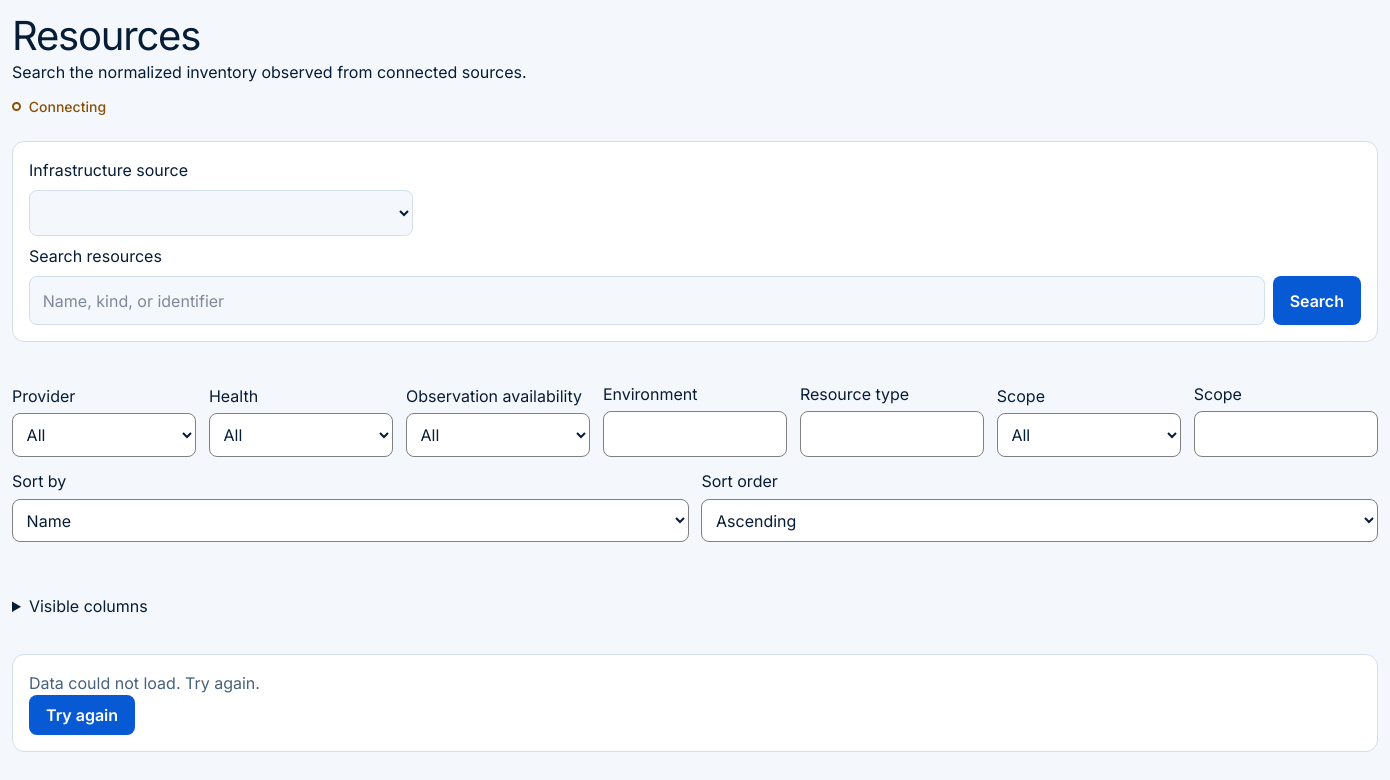
Test: failed product reads › retries resources without a document reload
The width and height of the screenshot is (1390, 780).
Click the button "Try again".
click(82, 715)  # box [29,695,135,735]
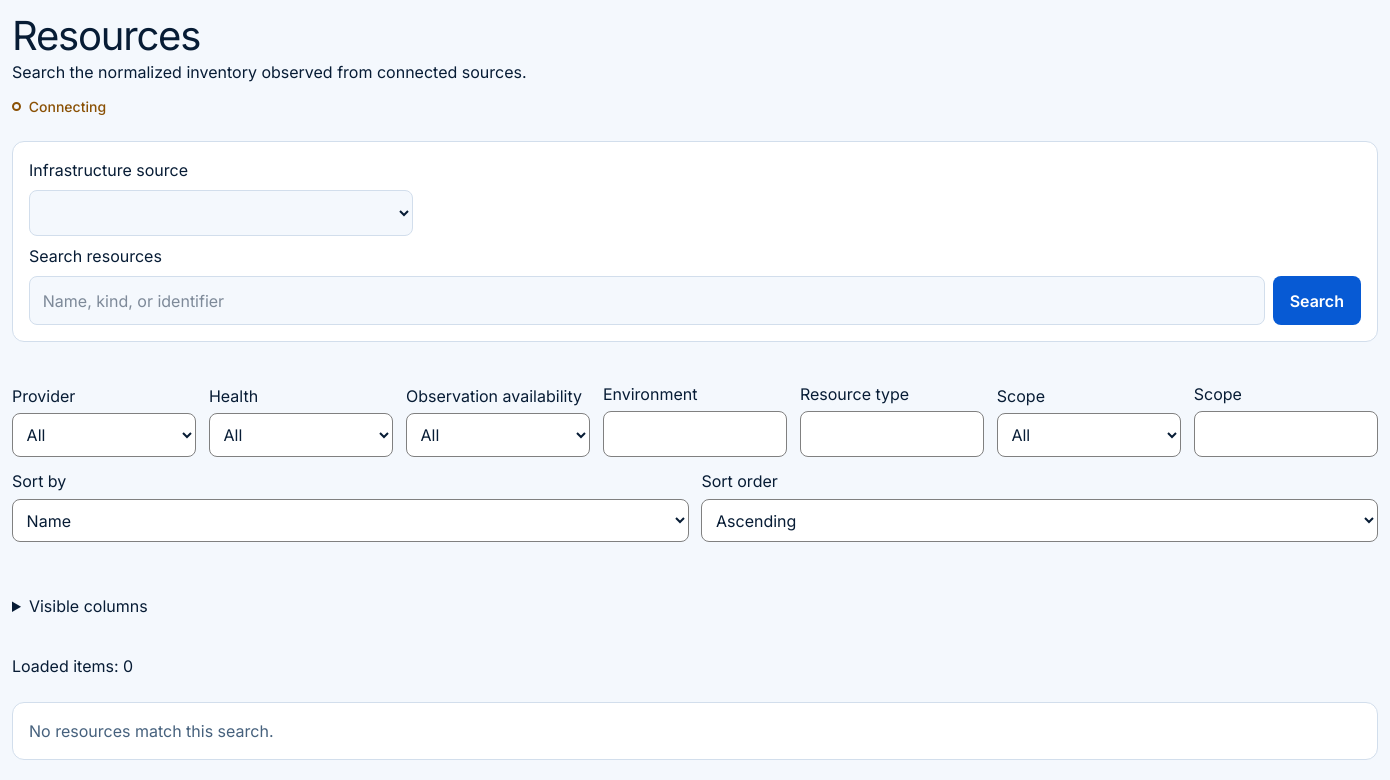
Expected: the text "Try again" is gone
